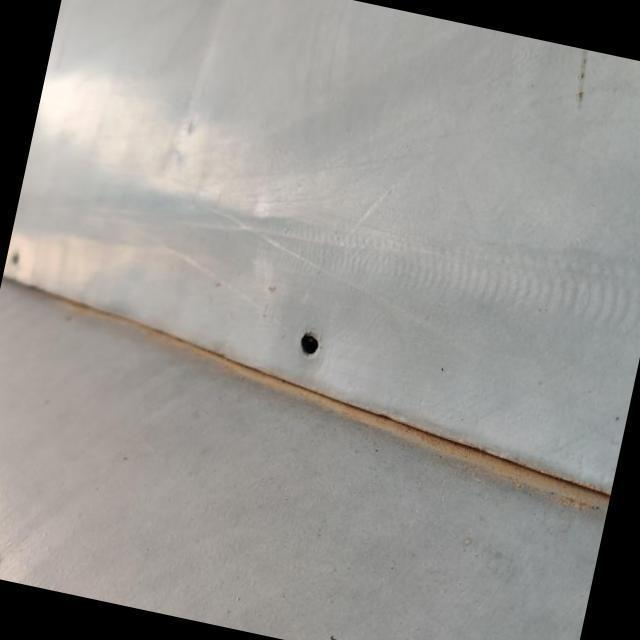Fastener Damage: (270, 308, 344, 382)
